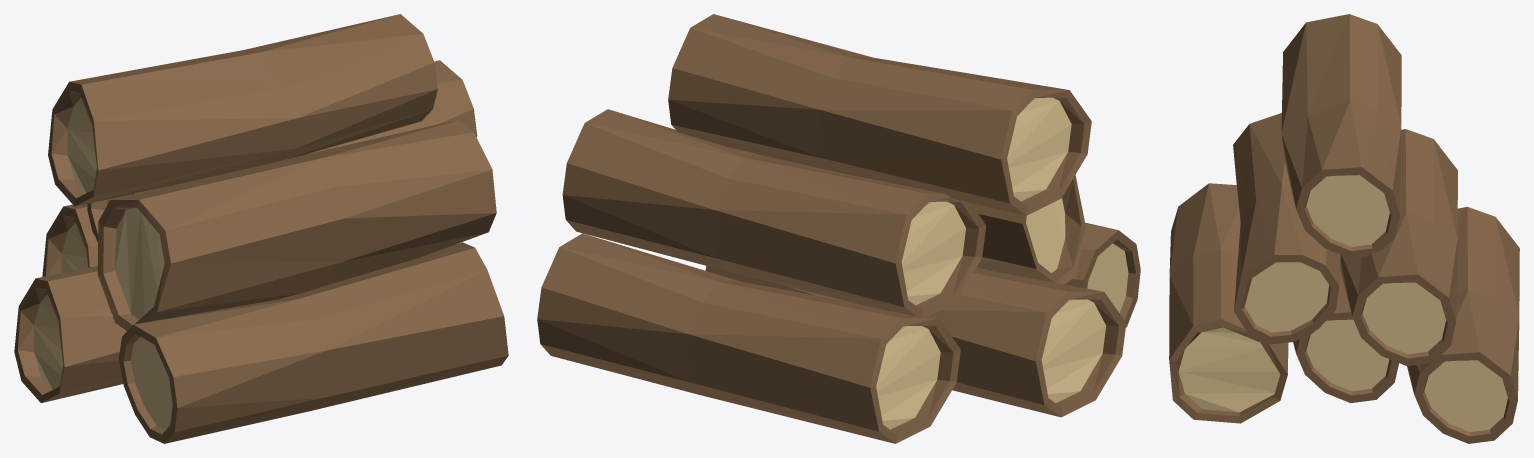
File: SM_Lumber.fbx
The picture shows the model from 3 angles, left to right: view 1: azimuth 30°, elevation 25°; view 2: azimuth 150°, elevation 25°; view 3: azimuth 270°, elevation 25°; orthographic projection. The views are drawn at different scales.
Parts seen in each view (by area): view 1: SM_Lumber_LOD0; view 2: SM_Lumber_LOD0; view 3: SM_Lumber_LOD0.
Boxes of the visible parts, box(x1,y1,x2,y2) form: SM_Lumber_LOD0: box(14, 14, 508, 443); SM_Lumber_LOD0: box(537, 14, 1140, 443); SM_Lumber_LOD0: box(1169, 14, 1519, 443).
Bounding box in the file's own units: 142 × 108 × 89.35.
Materials: 1 (1 with a texture image).
